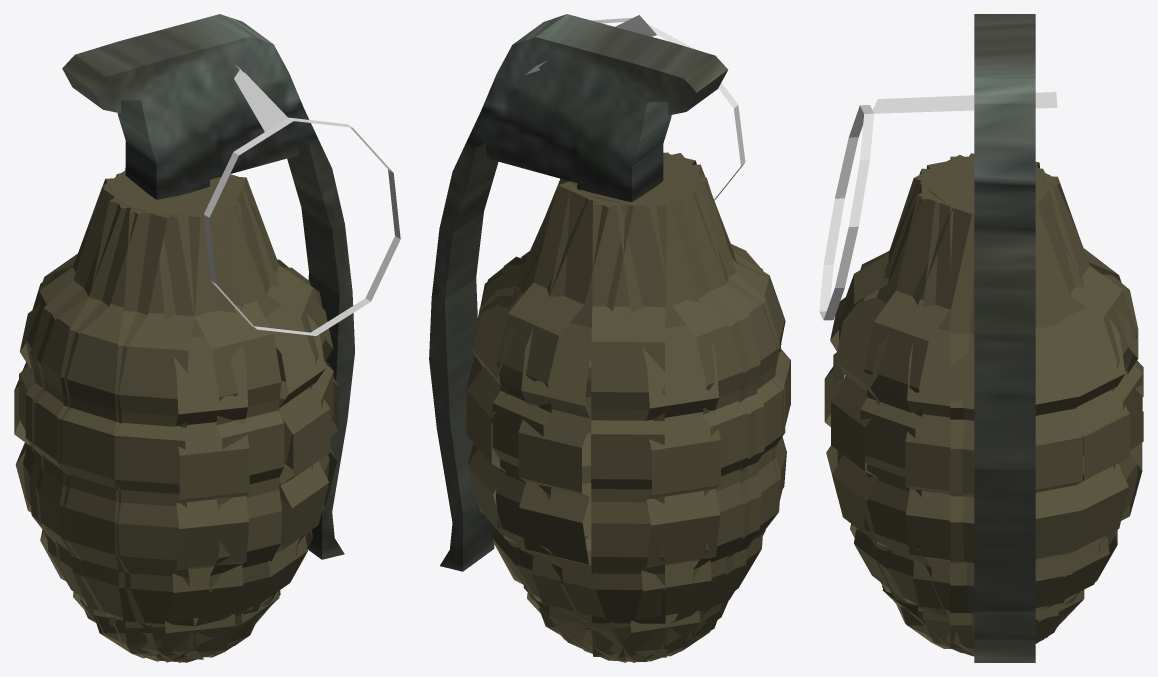
Rendered from PineAppleHandGranade.fbx.
3 views of the same model, side by side, from view 1: azimuth 30°, elevation 25°; view 2: azimuth 150°, elevation 25°; view 3: azimuth 270°, elevation 25° (orthographic). The views are drawn at different scales.
Parts seen in each view (by area): view 1: Body, Clip, Pin; view 2: Body, Clip, Pin; view 3: Body, Clip, Pin.
Part boxes in pixels (x1,y1,x2,y2): Body: [14, 168, 338, 662]; Clip: [62, 14, 354, 559]; Pin: [203, 65, 400, 335]; Body: [466, 152, 790, 662]; Clip: [429, 14, 728, 571]; Pin: [525, 15, 745, 200]; Body: [824, 153, 1143, 656]; Clip: [974, 14, 1035, 662]; Pin: [819, 92, 1057, 320].
Bounding box in the file's own units: 319 × 587 × 291.
